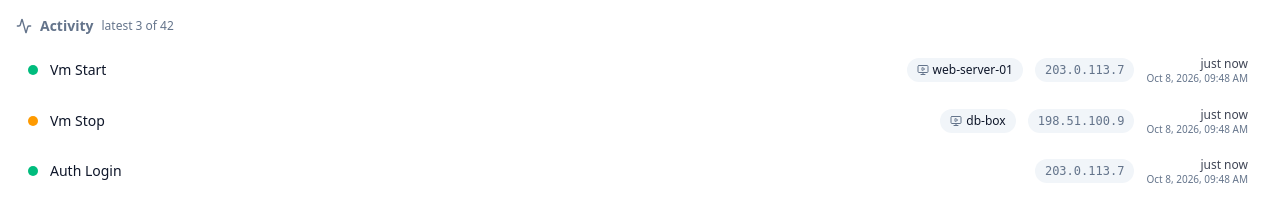
Test: KioskActivityList › filters by VM (stable targetId) via the VM chip
Click the button named "Filter by VM db-box" at coordinates (978, 121), box [940,109,1016,133]
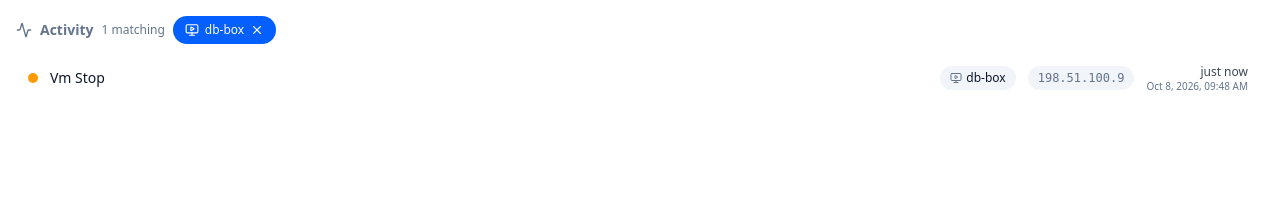
Expected: the text "db-box" is shown, [173,16,276,44]
Expected: the text "web-server-01" is gone
Expected: the text "1 matching" is shown, [102,22,165,38]
